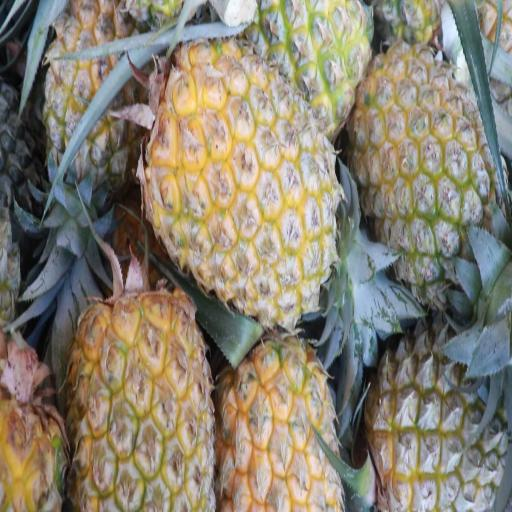------------------------------: (371, 322, 512, 512), (41, 0, 140, 188)
Pineapple - v8 v1: (152, 51, 327, 303), (352, 42, 488, 279), (72, 294, 210, 512), (263, 0, 370, 137)
